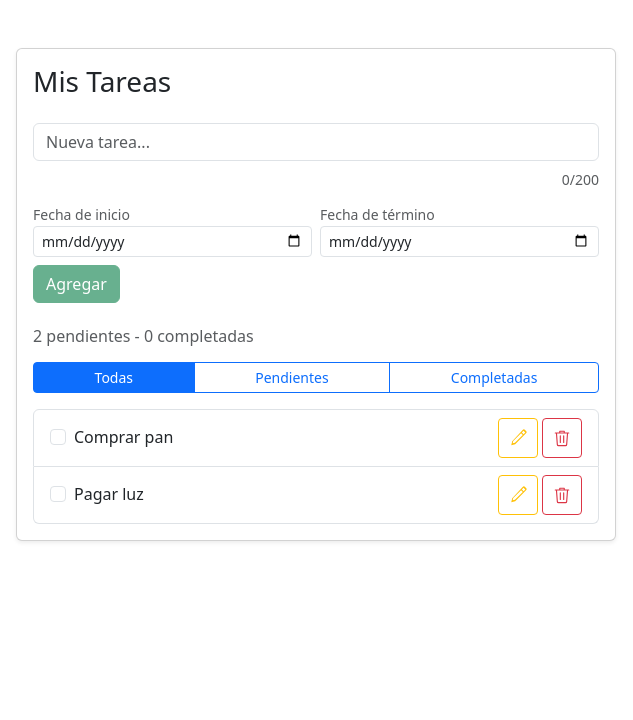
Test: opening another row does not move focus back to the previous one
This screenshot has width=633, height=720.
Click the button named "Modificar: Comprar pan".
click(518, 438)  # box [498,418,538,458]
(page scrolled)
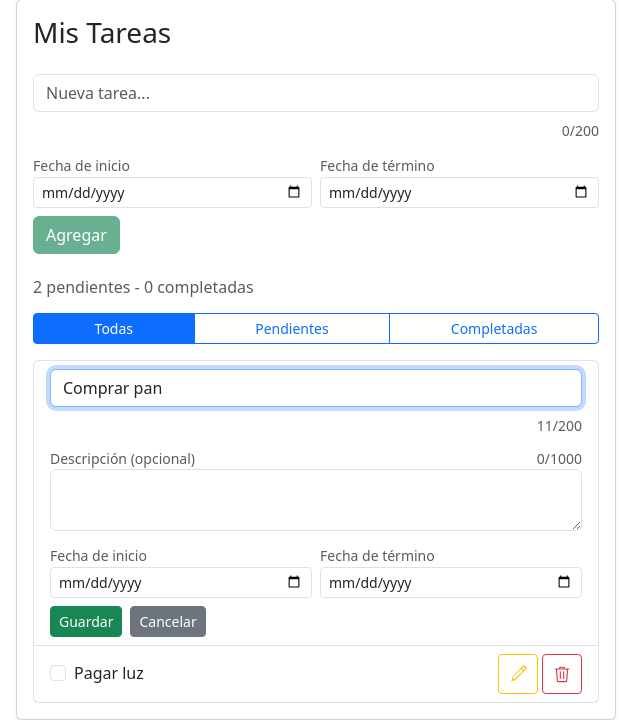
Click the button named "Modificar: Pagar luz".
click(518, 674)  # box [498,654,538,694]
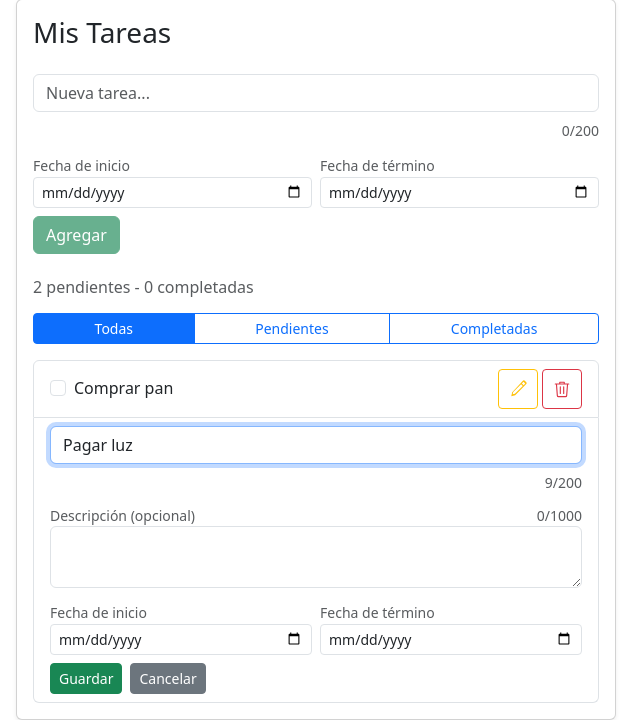
Now the field named "Título de la tarea" holds "Pagar luz", box [50,426,582,464]
